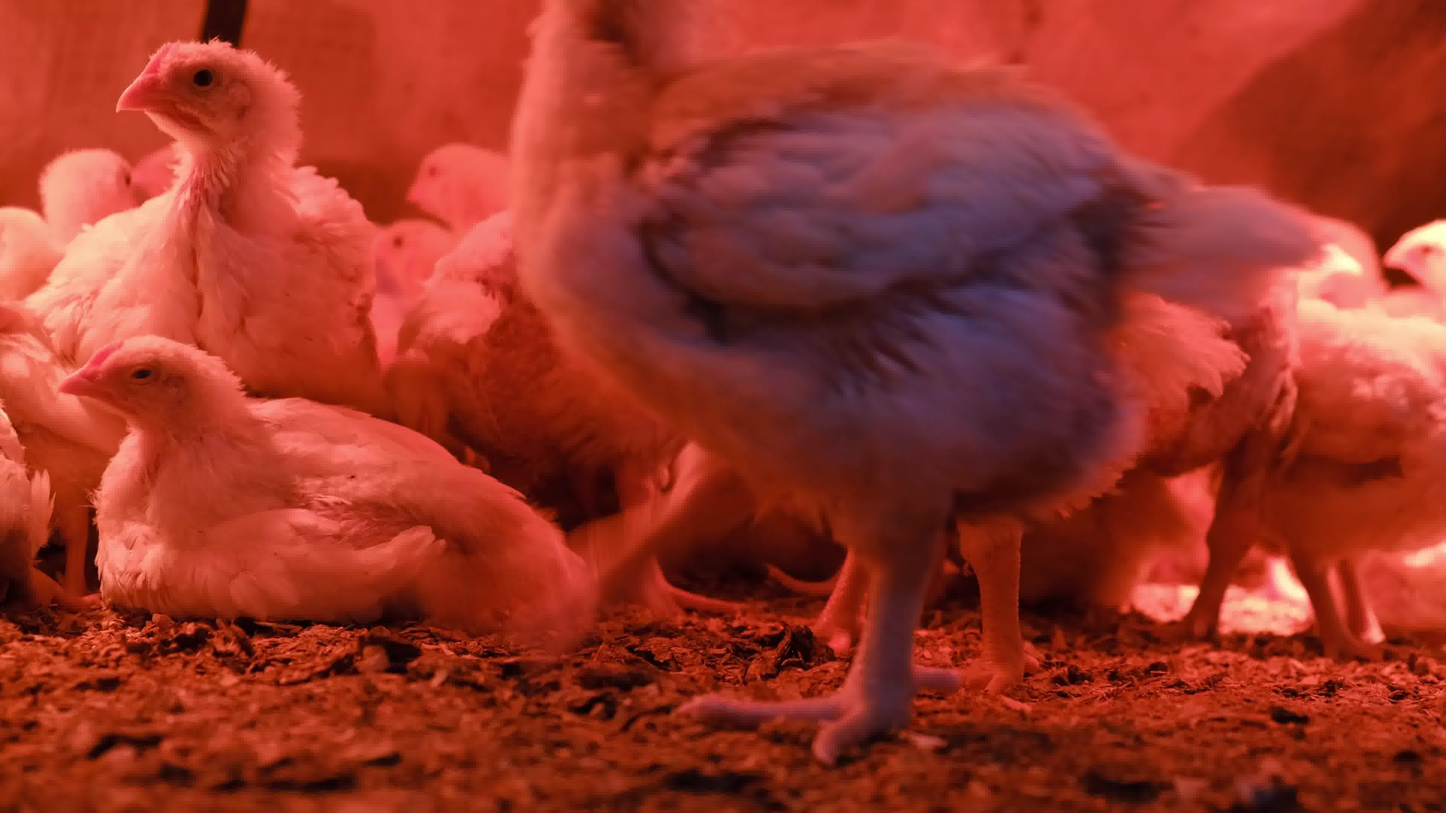AbNormal: (23, 314, 584, 664), (0, 250, 100, 638)
Normal: (491, 0, 1275, 745), (377, 205, 732, 621), (102, 28, 424, 359), (1243, 143, 1438, 678), (109, 126, 245, 284), (329, 160, 442, 303), (371, 111, 533, 203), (15, 102, 141, 220), (0, 175, 98, 303)
